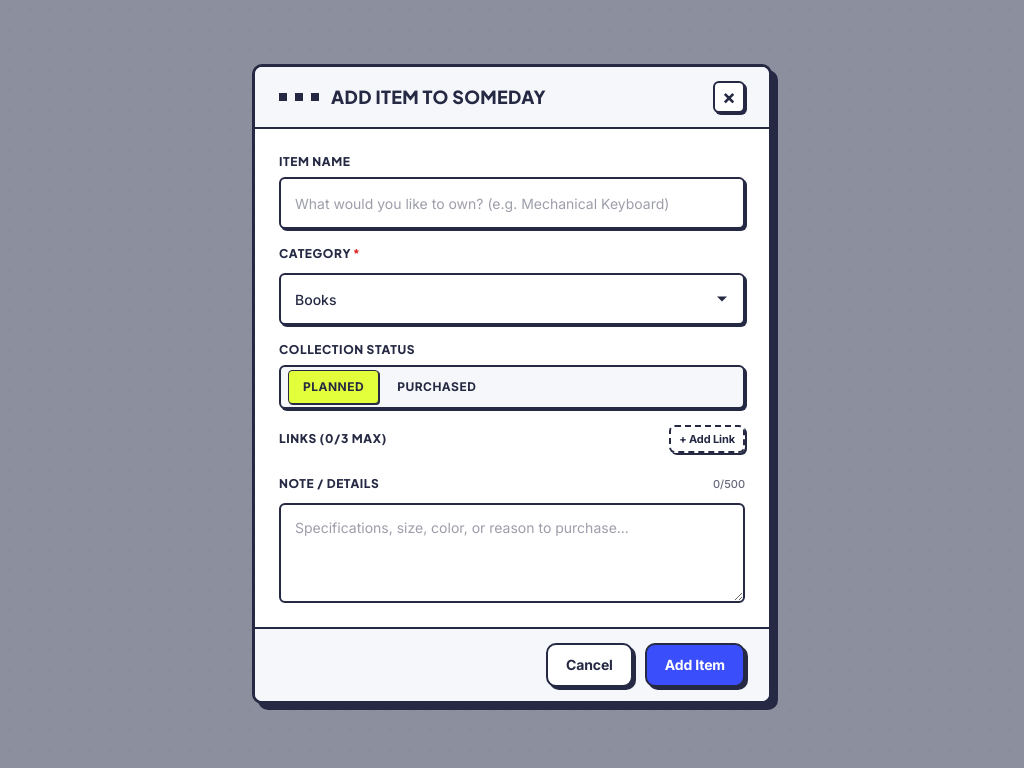
Test: ItemFormModal Component › renders form inputs and handles dynamic link limits (0 to 3 max)
This screenshot has width=1024, height=768.
Expected: the heading "Add Item to Someday" is shown, [331, 87, 546, 107]
Expected: the field with placeholder "What would you like to own? (e.g. Mechanical Keyboard)" is shown, [281, 179, 743, 227]
# Add 1st link
Click the button "+ Add Link" at (707, 439), box [669, 425, 745, 453]
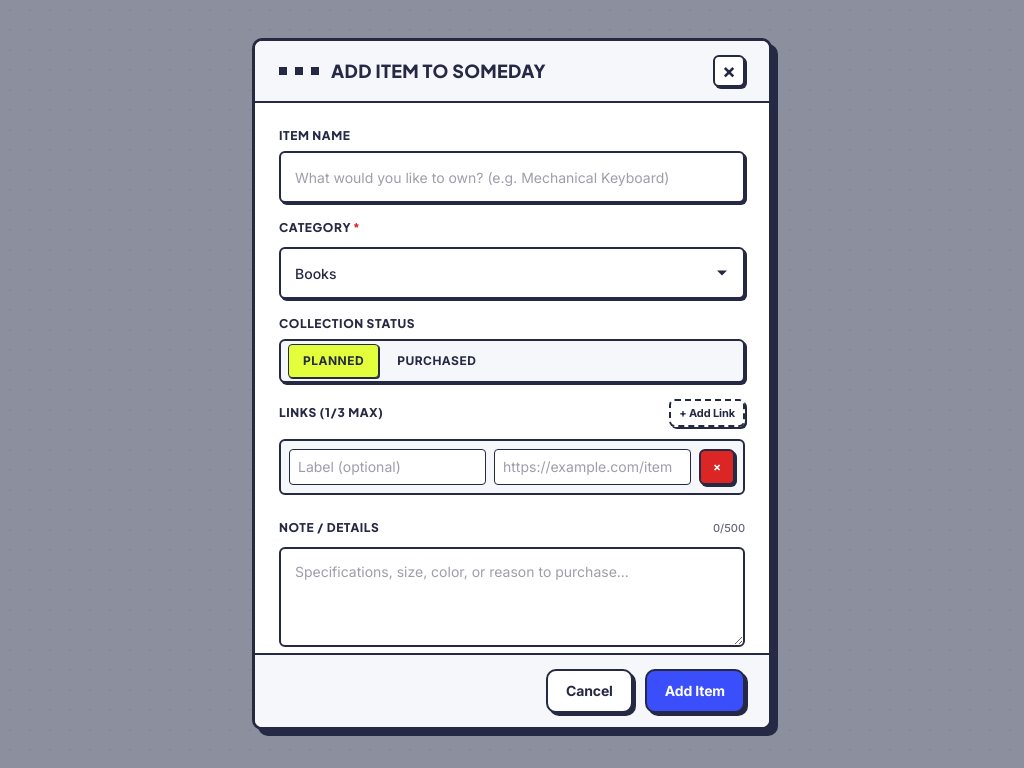
Expected: the text "LINKS (1/3 max)" is shown, [279, 404, 384, 422]
Expected: the field with placeholder "https://example.com/item" is shown, [494, 449, 691, 485]
# Add 2nd link
Click the button "+ Add Link" at (707, 413), box [669, 399, 745, 427]
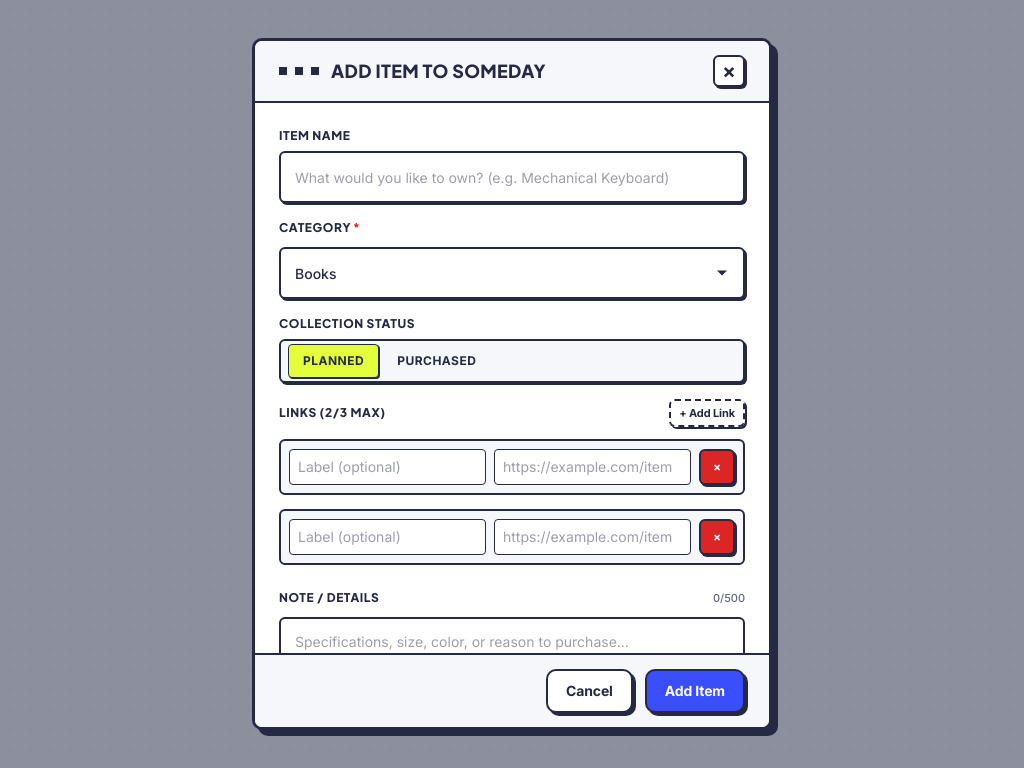
Expected: the text "LINKS (2/3 max)" is shown, [279, 404, 386, 422]
# Add 3rd link
Click the button "+ Add Link" at (707, 413), box [669, 399, 745, 427]
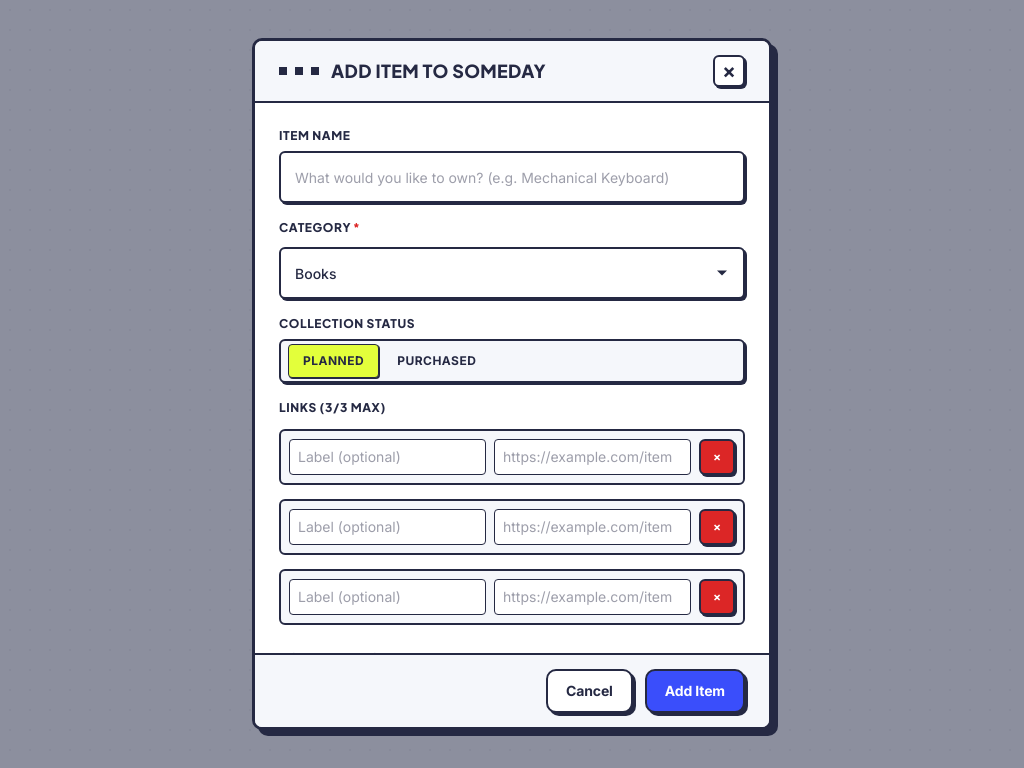
Expected: the text "LINKS (3/3 max)" is shown, [279, 399, 386, 417]
Expected: the button "+ Add Link" is gone
